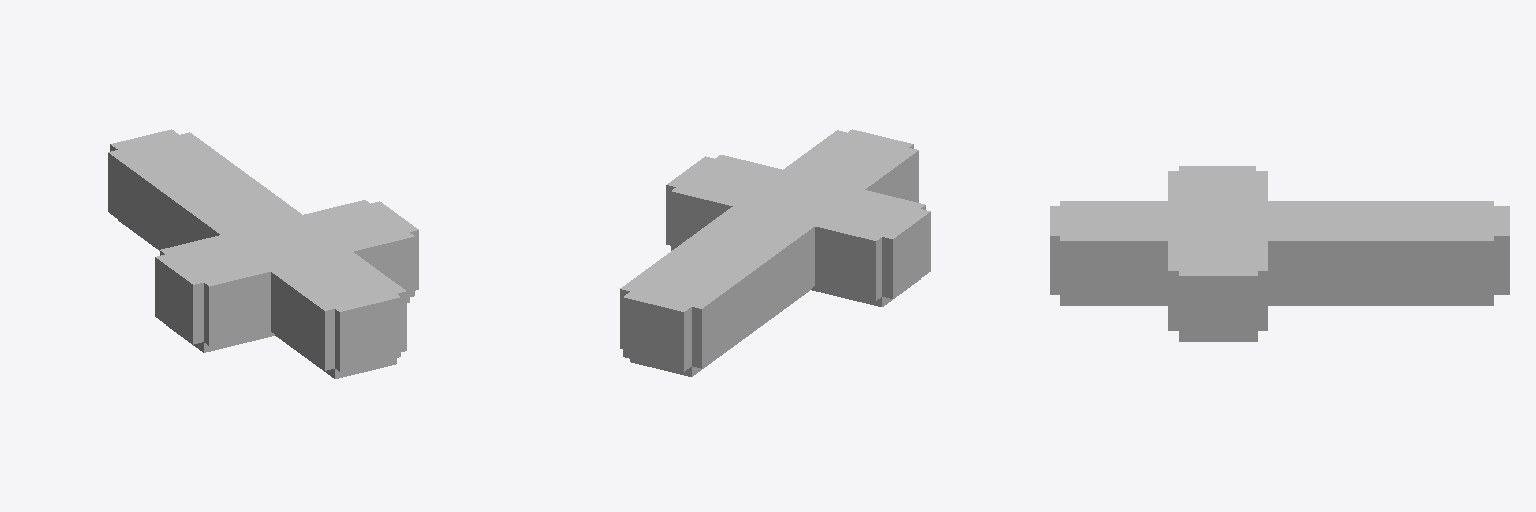
File: innerCross.obj
3 renders of one model, left to right at view 1: azimuth 30°, elevation 25°; view 2: azimuth 150°, elevation 25°; view 3: azimuth 270°, elevation 25°, orthographic.
Parts seen in each view (by area): view 1: Cube; view 2: Cube; view 3: Cube.
Part boxes in pixels (x1,y1,x2,y2): Cube: (108, 129, 418, 378); Cube: (620, 129, 930, 376); Cube: (1050, 166, 1509, 341).
Bounding box in the file's own units: 220 × 65.71 × 387.